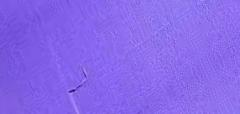snag: (68, 63, 90, 97)
